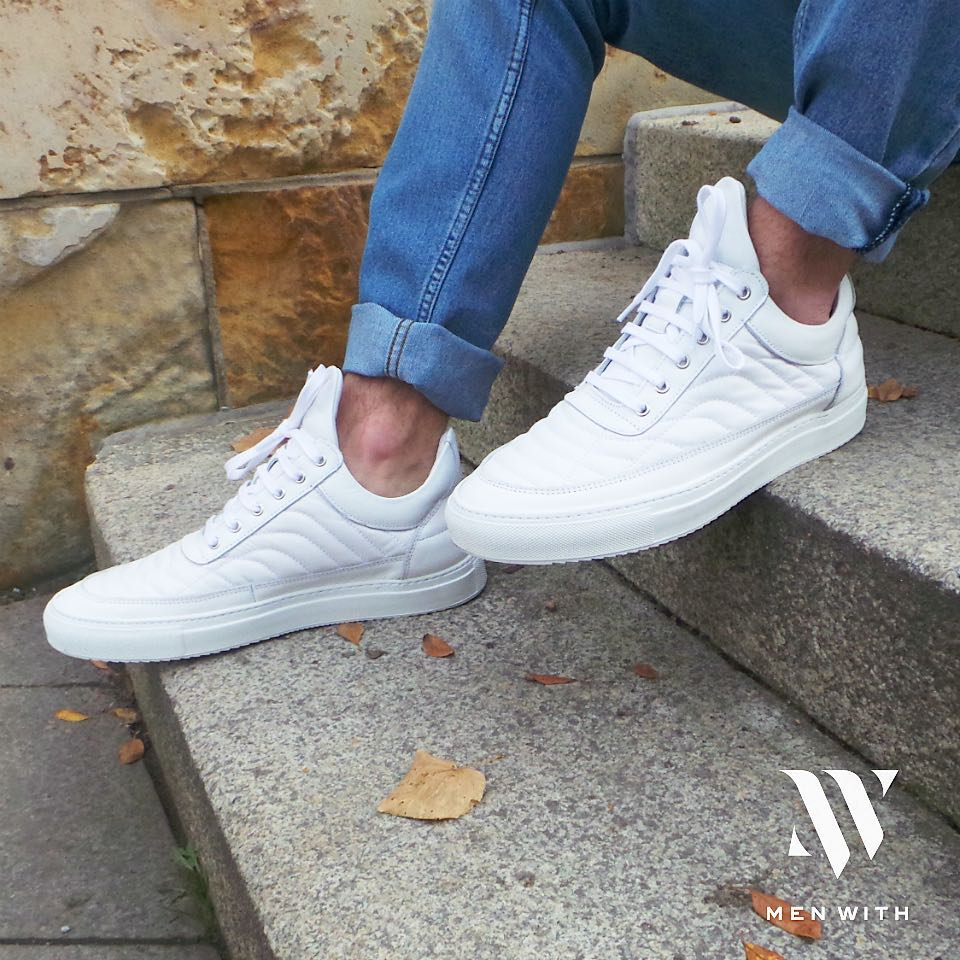sneaker: (416, 137, 907, 601), (17, 333, 514, 698)
